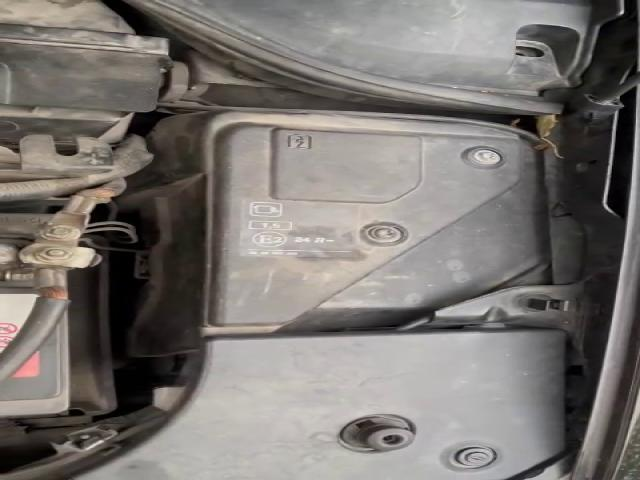accumulator: (0, 215, 90, 417)
fuse_box: (202, 124, 558, 328)
